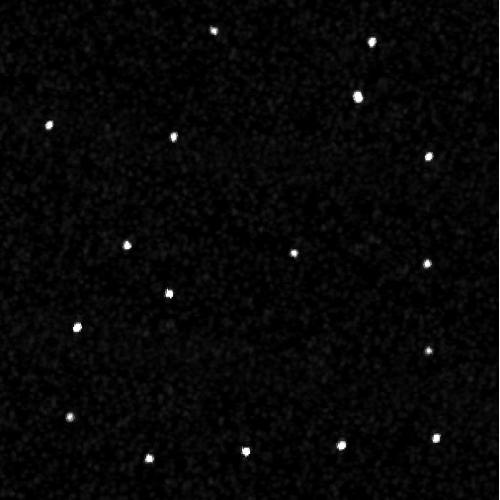ship: (352, 90, 364, 106), (143, 451, 156, 465), (335, 438, 347, 453), (366, 35, 377, 49), (163, 288, 175, 300), (72, 321, 83, 334), (65, 410, 76, 423), (241, 446, 252, 459), (424, 344, 434, 357), (122, 239, 132, 251), (209, 24, 219, 36), (431, 433, 441, 445), (290, 247, 300, 258), (422, 258, 432, 269), (45, 119, 54, 131), (170, 131, 179, 142), (424, 151, 433, 162)
